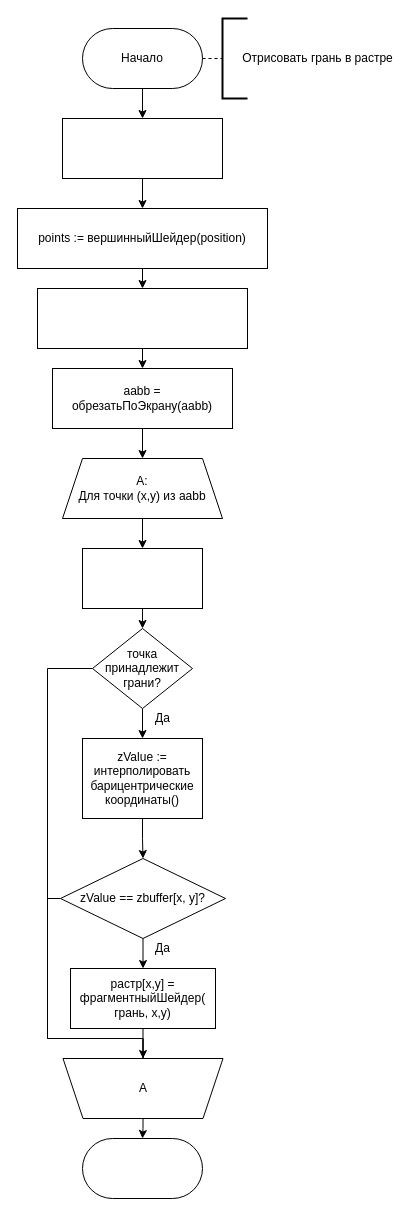
The diagram is 420 pixels wide and 1216 high, and some of its shapes have lost their labels. Each missing label, with the centre of its shape:
"aabb := объемлющийПрямоугольник(points)" belongs at pixel 142 318.
"position := получитьИндексГрани()" belongs at pixel 142 148.
"вычислить барицентрические координаты точки" belongs at pixel 142 578.
"Конец" belongs at pixel 142 1168.
